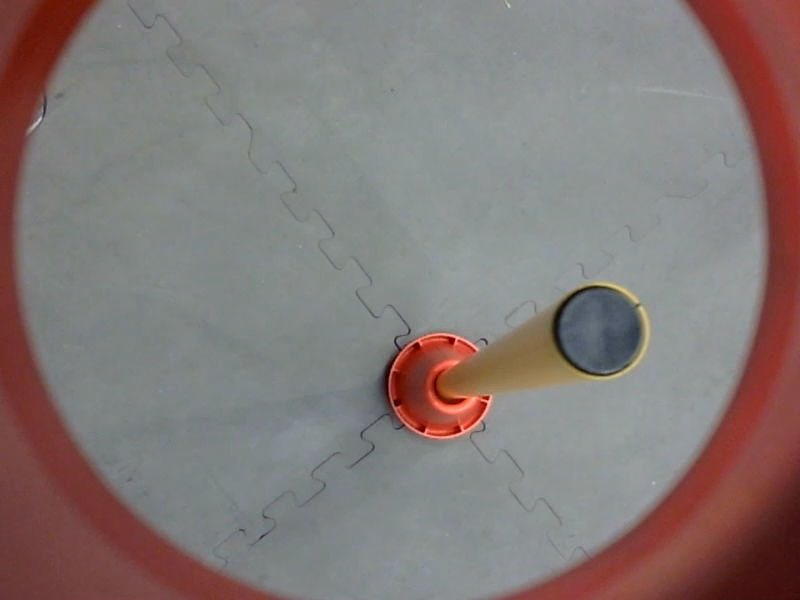tip: (544, 269, 660, 390)
